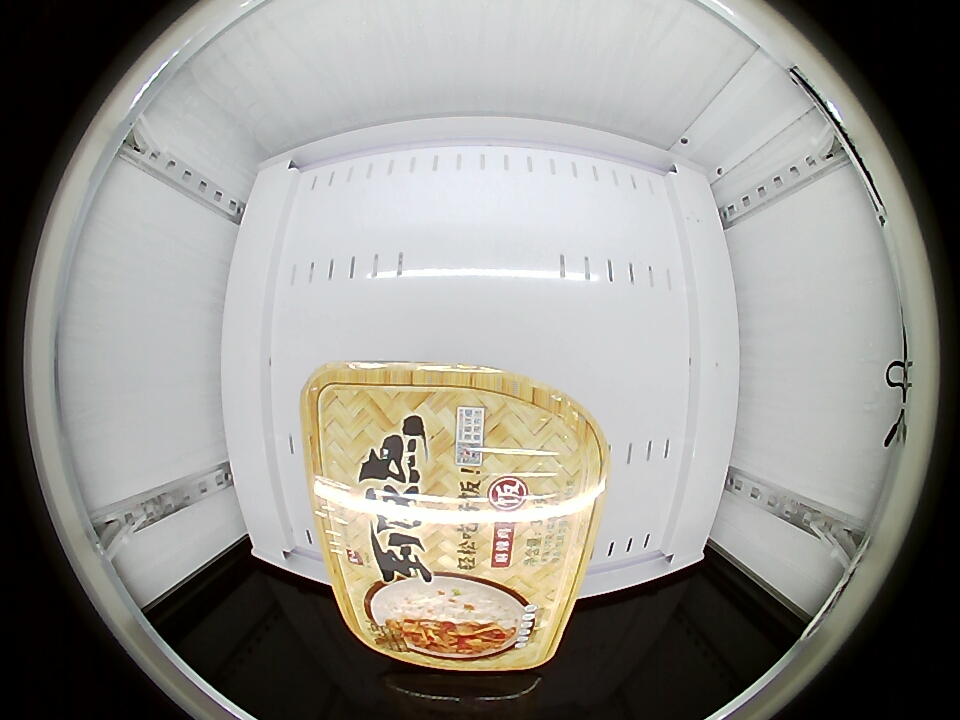daofandian4: (301, 360, 607, 672)
